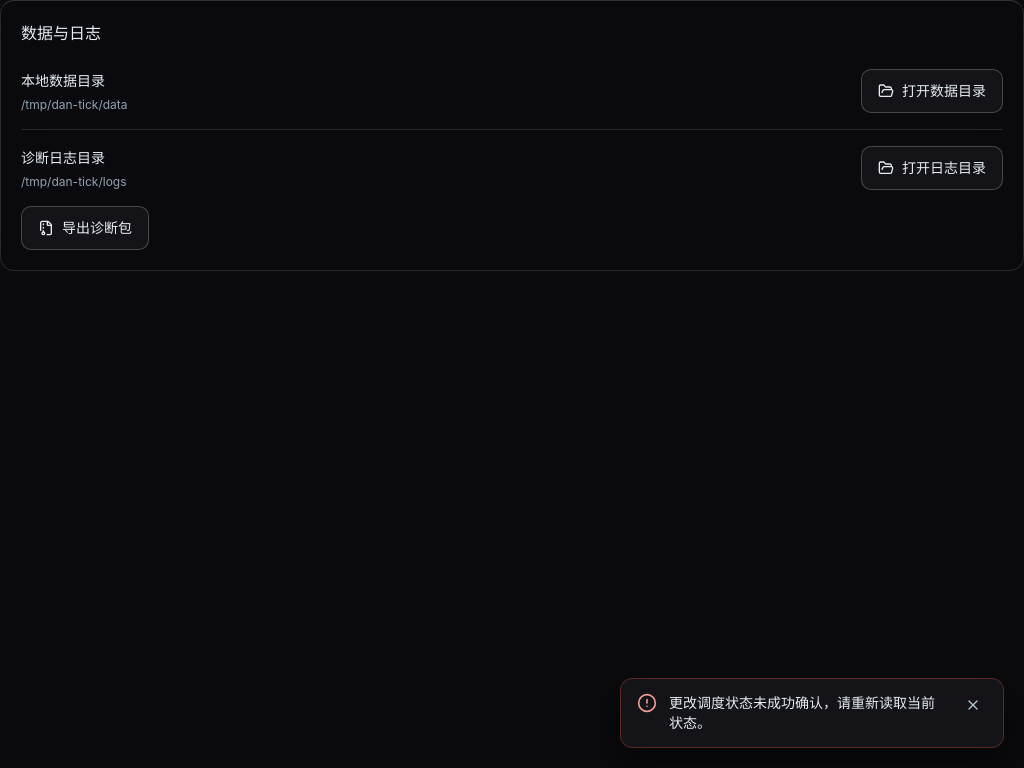
Test: opens local directories and exports with result feedback without the explanatory notice
Expected: the text "/tmp/dan-tick/data" is shown, [21,97,128,112]
Expected: the text "/tmp/dan-tick/logs" is shown, [21,174,126,189]
Click the button "打开日志目录". click: (932, 168)
box: [861,146,1003,190]
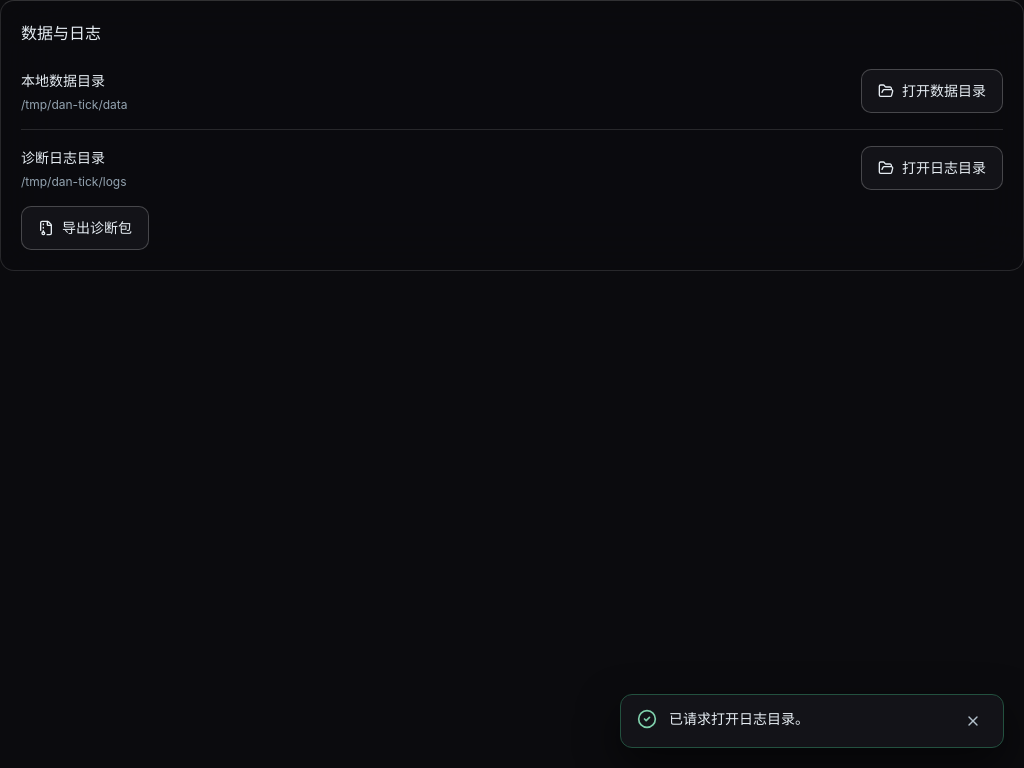
Click the button "打开数据目录". click: (932, 91)
box: [861,69,1003,113]
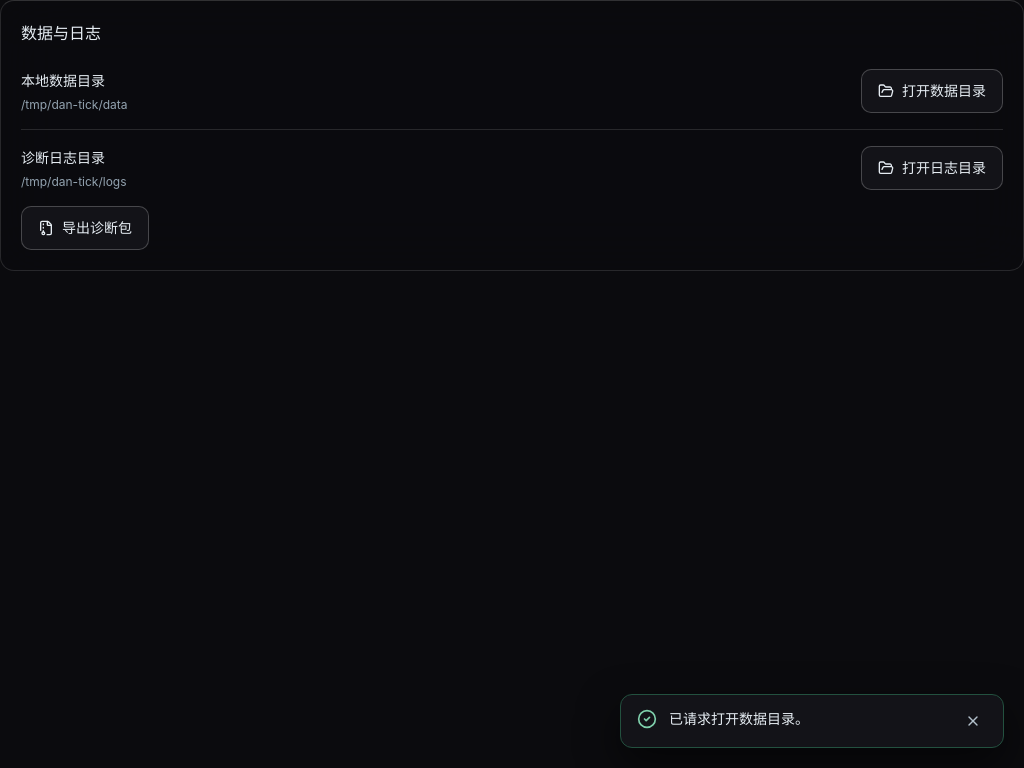
Click the button "导出诊断包". click: (85, 228)
box: [21,206,149,250]
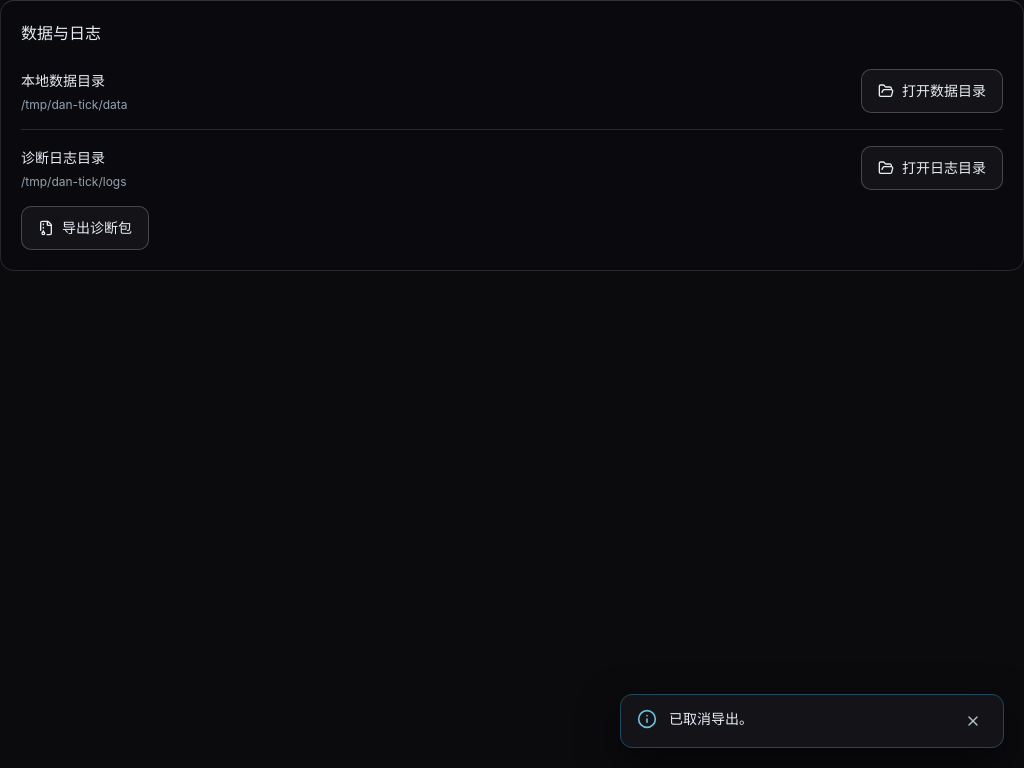
Expected: the message named "操作提示通知" reads "已取消导出。", [669,710,753,727]
Click the button "导出诊断包". click: (85, 228)
box: [21,206,149,250]
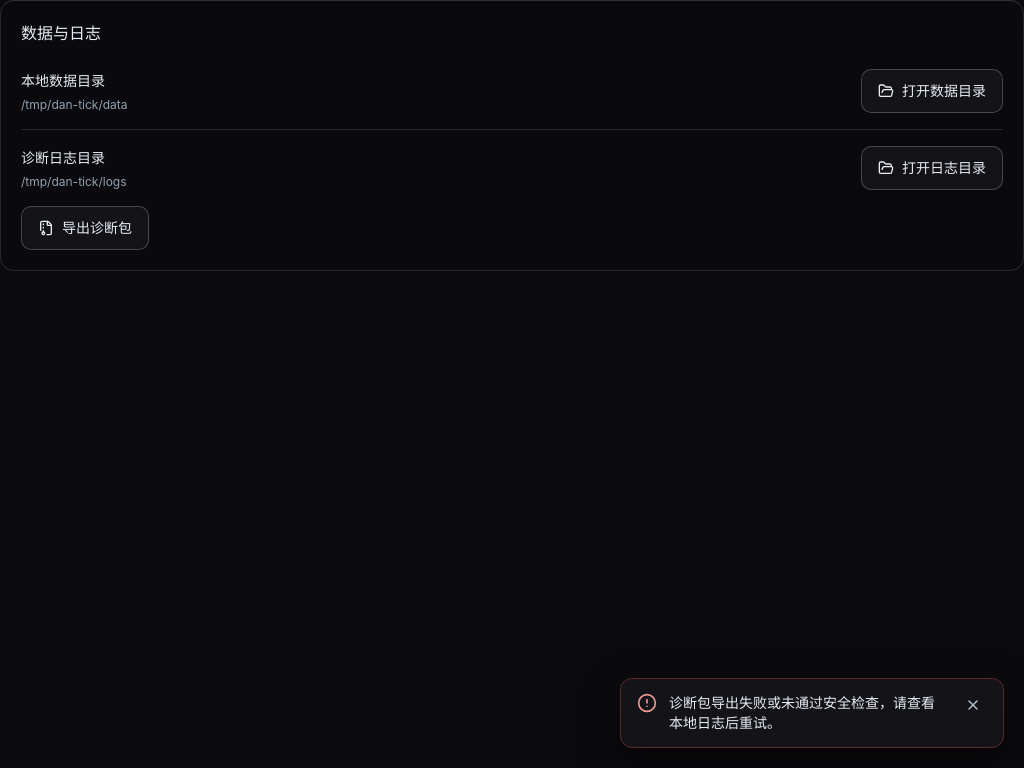
Expected: the message named "操作失败通知" shows "诊断包导出失败或未通过安全检查", [669,694,935,731]
Click the button "导出诊断包". click: (85, 228)
box: [21,206,149,250]
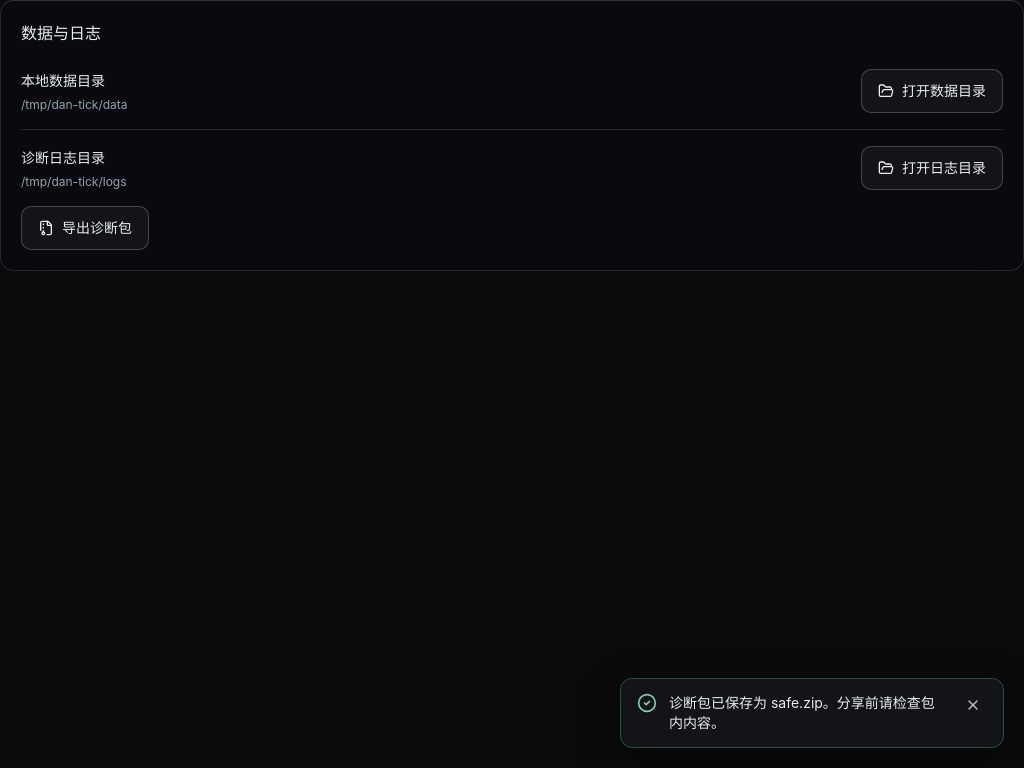
Expected: the message named "操作成功通知" shows "诊断包已保存为 safe.zip", [669,694,935,731]
